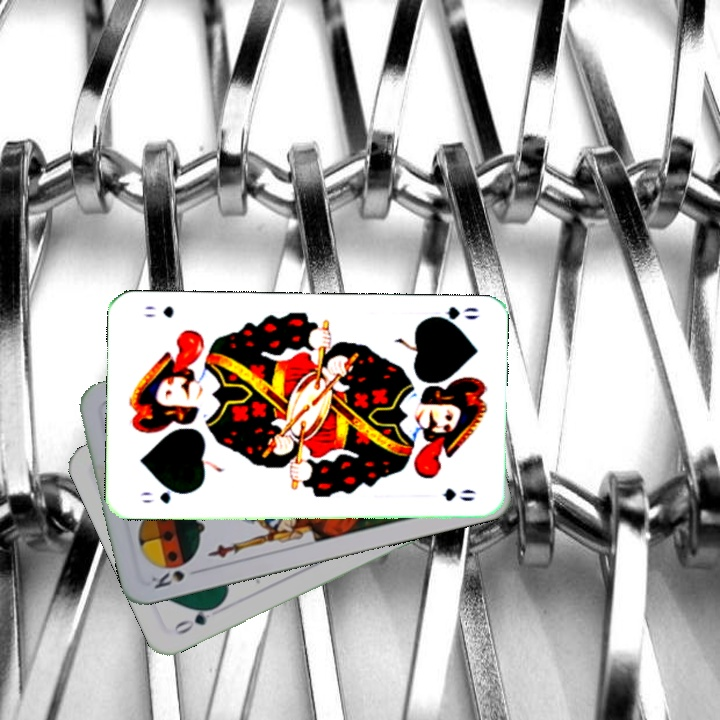GO: (169, 600, 222, 638), (422, 302, 482, 329), (136, 484, 189, 506)
SK: (147, 566, 188, 592)
